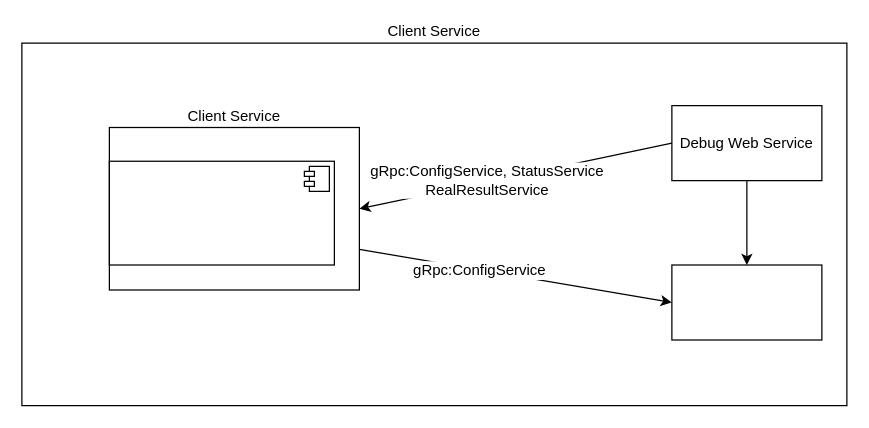
The diagram is 869 pixels wide and 428 high, and some of its shapes have lost their labels. The shapes that lost their labels are listed below. From the top down, each one's box as (x1, y1, x2, y2) in pixels, then its label:
(108, 160, 334, 265): ClientRunner + result_data: HangingData + config: Config
(671, 264, 822, 340): Data Service
